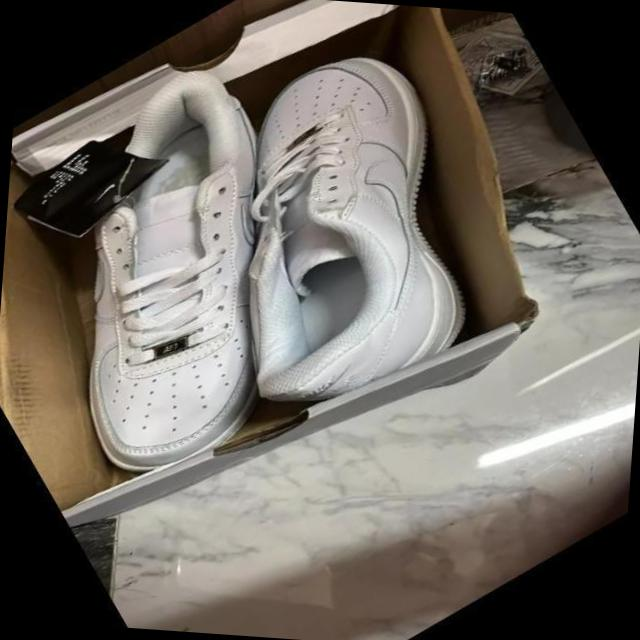nike_fake_airforce: (117, 0, 568, 448), (0, 31, 403, 512)
